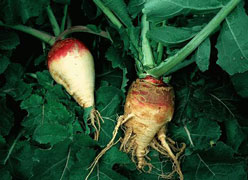turnip: (43, 34, 107, 147), (121, 77, 174, 171)
